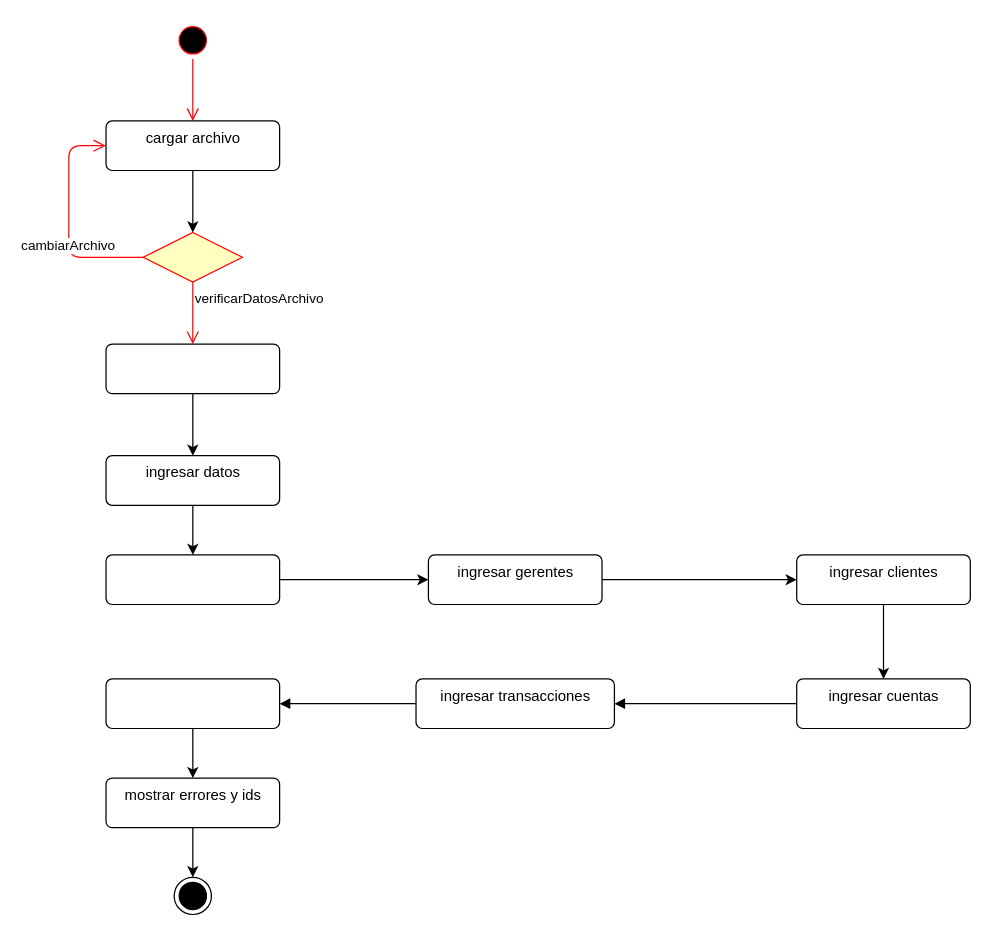
The diagram is 992 pixels wide and 936 high, and some of its shapes have lost their labels. Each missing label, with the centre of its shape:
crear usuarios: the point at 192,703
ingresar cajeros: the point at 192,579
mostrar datos de archivo: the point at 192,368
seleccionar: the point at 192,256
